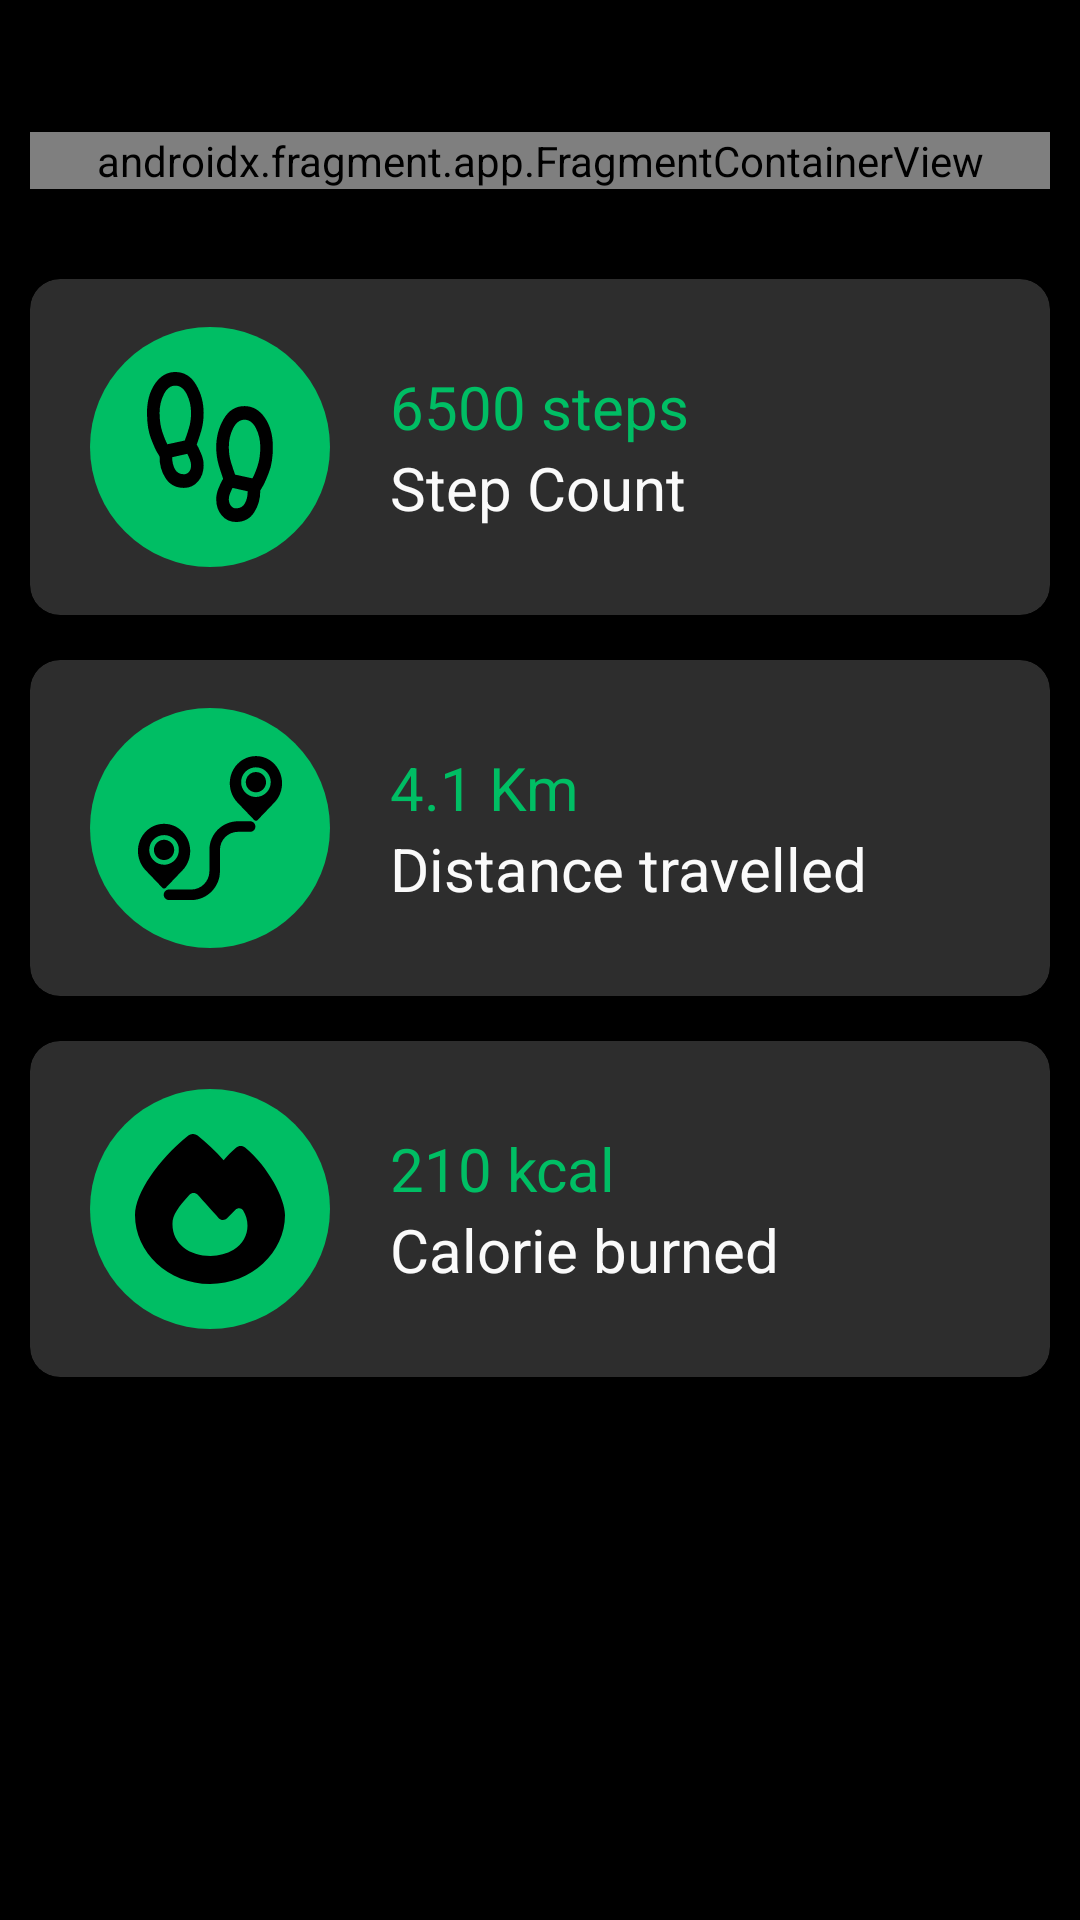

Icons on this 1080×1920 Android screen, each with its box as (x1, y1, x2, y2):
calories burn: (90, 1089, 330, 1329)
step counder: (90, 327, 330, 567)
